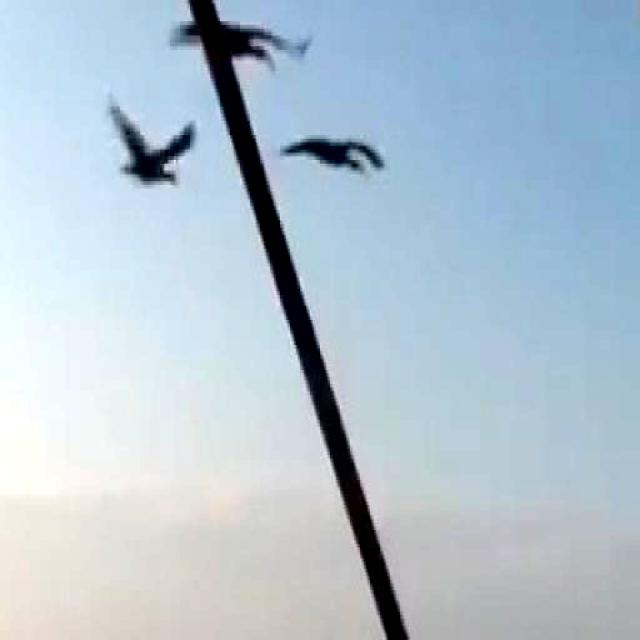airplane: (102, 80, 200, 199)
